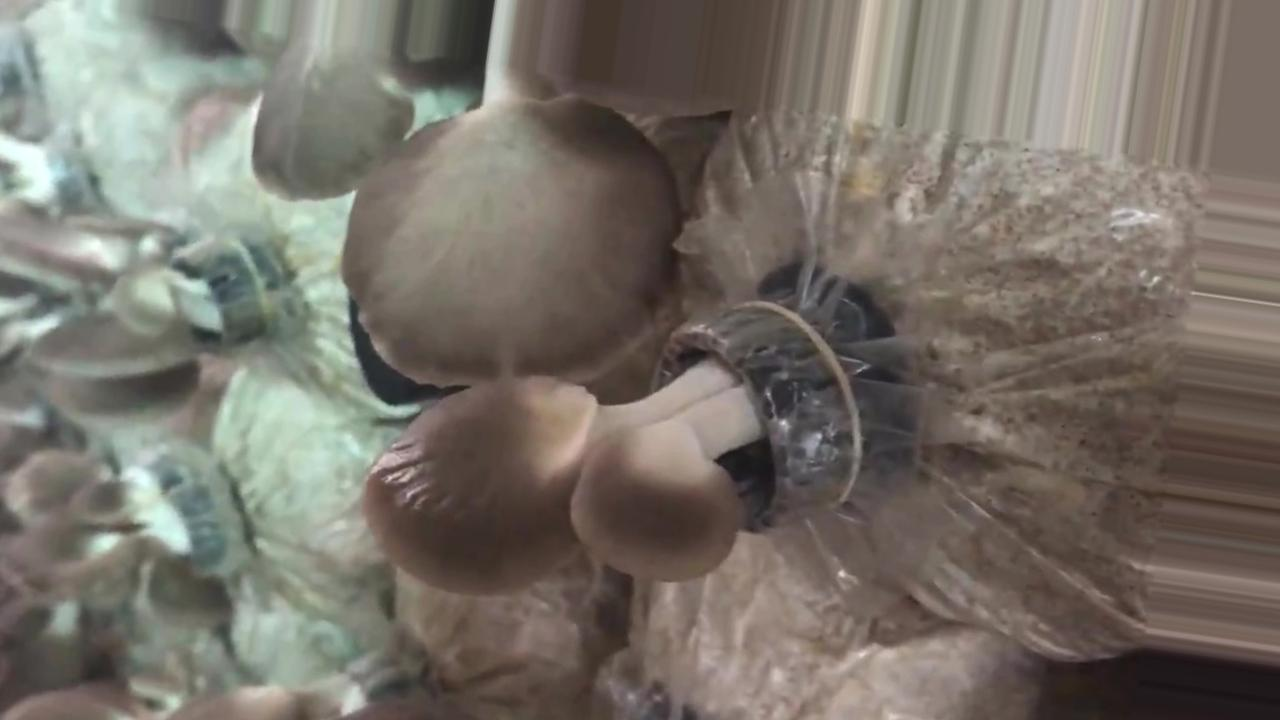nam: (251, 1, 750, 392), (360, 285, 875, 612), (1, 202, 295, 435), (1, 437, 280, 634)
